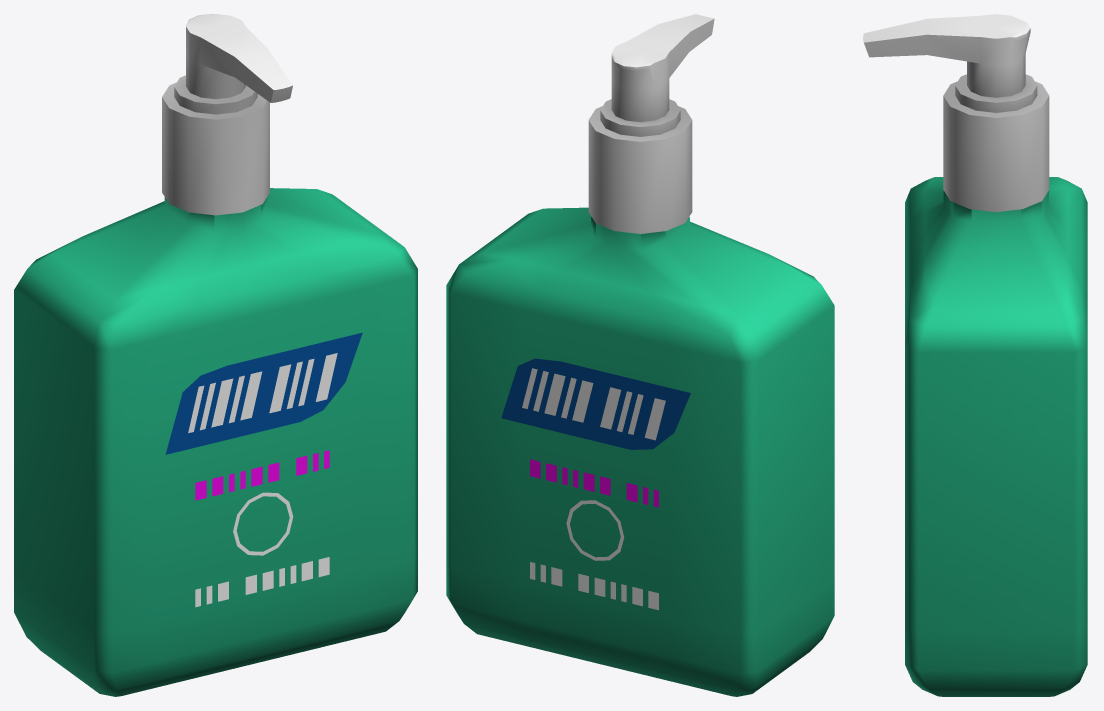
File: human-household-items-hand-sanitizer_v1.fbx
3 renders of one model, left to right at view 1: azimuth 30°, elevation 25°; view 2: azimuth 150°, elevation 25°; view 3: azimuth 270°, elevation 25°, orthographic. The views are drawn at different scales.
Parts seen in each view (by area): view 1: Hand Sanitizer; view 2: Hand Sanitizer; view 3: Hand Sanitizer.
Part boxes in pixels (x1,y1,x2,y2): Hand Sanitizer: (14, 14, 417, 696); Hand Sanitizer: (446, 14, 834, 696); Hand Sanitizer: (863, 14, 1087, 696).
Size of the model in its own units: 0.1096 by 0.2 by 0.0675.
